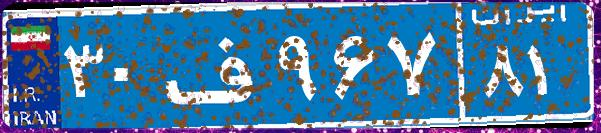0: (110, 28, 158, 105)
1: (525, 38, 570, 115)
3: (57, 26, 110, 107)
6: (330, 28, 385, 110)
7: (385, 28, 445, 110)
8: (475, 38, 525, 113)
9: (273, 28, 330, 110)
ف: (158, 15, 273, 115)
